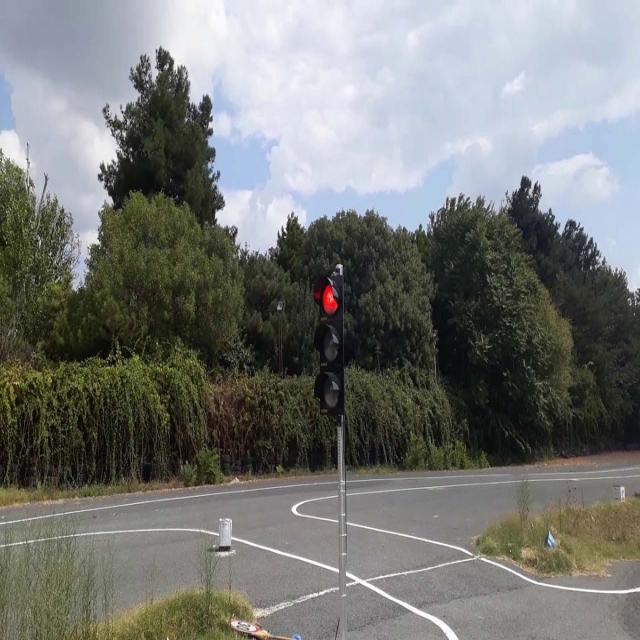kirmizi: (315, 276, 347, 416)
